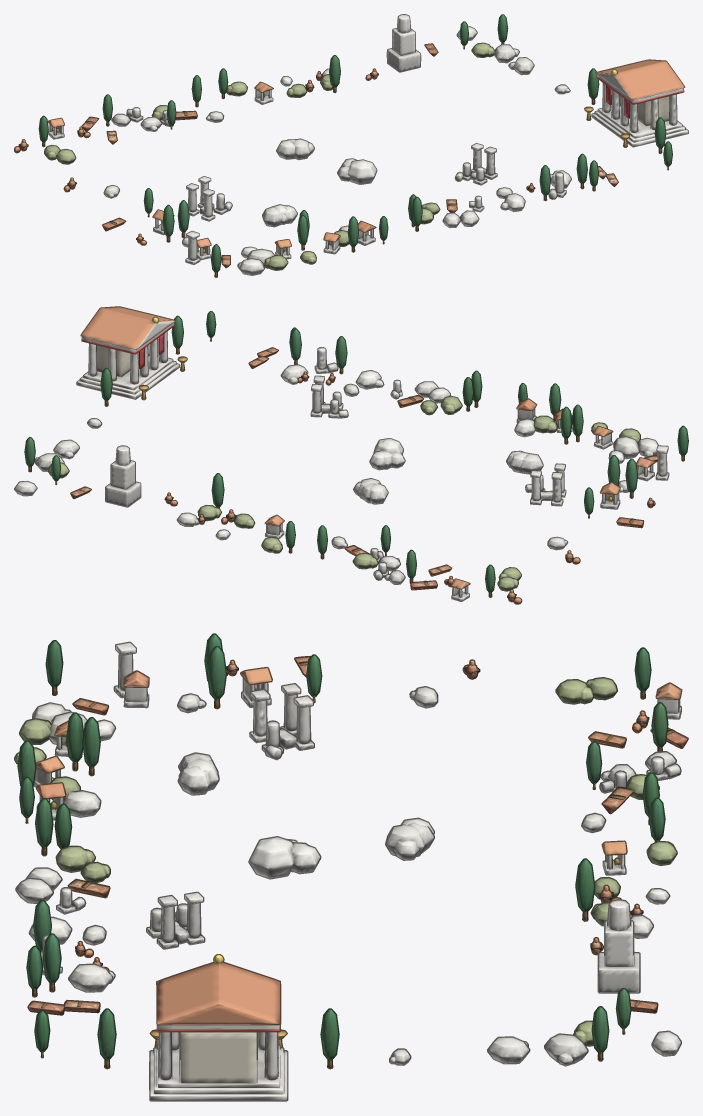
Rendered from marble_coast.glb.
3 views of the same model, one above another, from view 1: azimuth 30°, elevation 25°; view 2: azimuth 150°, elevation 25°; view 3: azimuth 270°, elevation 25° (orthographic). The views are drawn at different scales.
Visible parts, largest first — view 1: Baked_matte, Baked_matte_Outline; view 2: Baked_matte, Baked_matte_Outline; view 3: Baked_matte, Baked_matte_Outline.
Part boxes in pixels (left/top/right/bottom): Baked_matte: left=14, top=14, right=688, bottom=276; Baked_matte_Outline: left=14, top=14, right=688, bottom=277; Baked_matte: left=15, top=307, right=687, bottom=603; Baked_matte_Outline: left=14, top=306, right=688, bottom=604; Baked_matte: left=15, top=634, right=687, bottom=1100; Baked_matte_Outline: left=14, top=633, right=688, bottom=1101.
Bounding box in the file's own units: 40.84 × 4.99 × 26.64.
